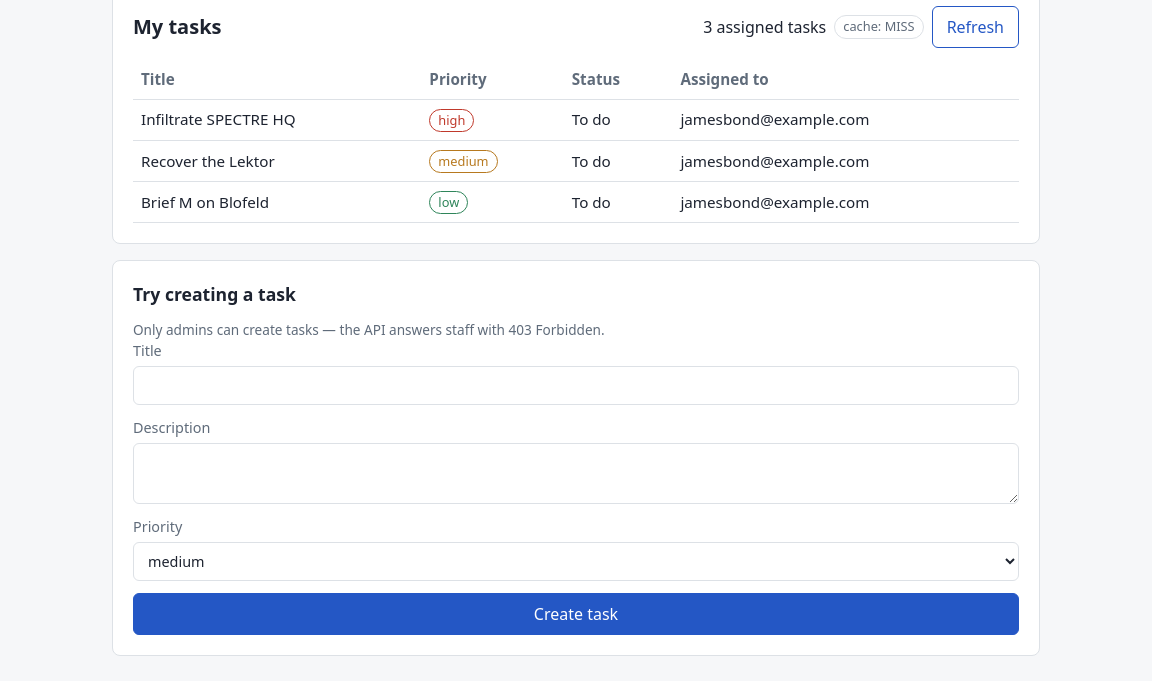
Test: MyTasksPage › shows a clear message when staff try to create a task (403)
Expected: the text "cache: MISS" is shown, [834,15,924,39]
Type "License to create" into the field labelled "Title" at (576, 386), box [133,366,1019,405]
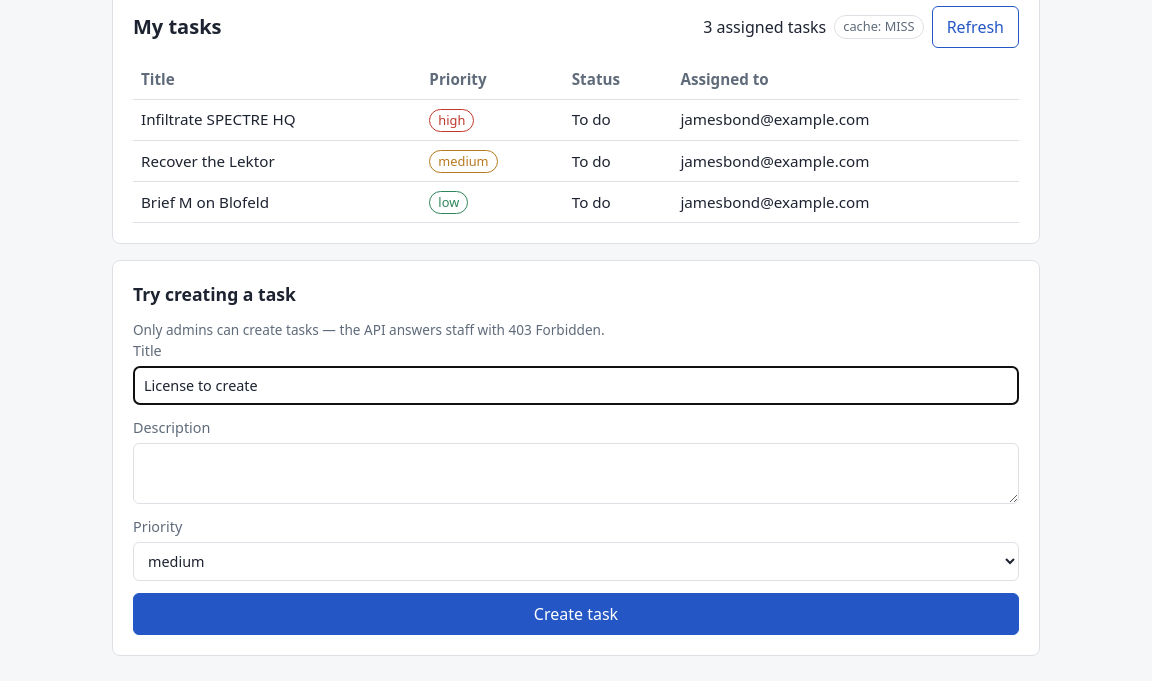
Click the button "Create task" at (576, 614), box [133,593,1019,635]
(page scrolled)
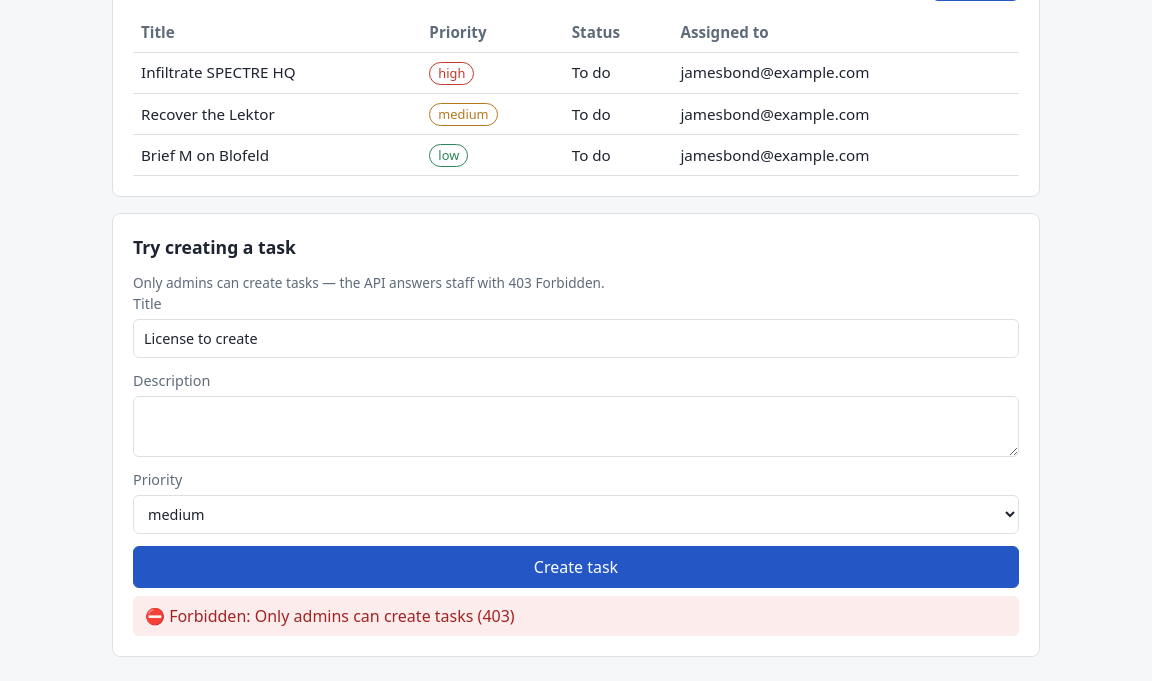
Expected: the message shows "Forbidden: Only admins can create tasks (403)", [145,605,515,627]
